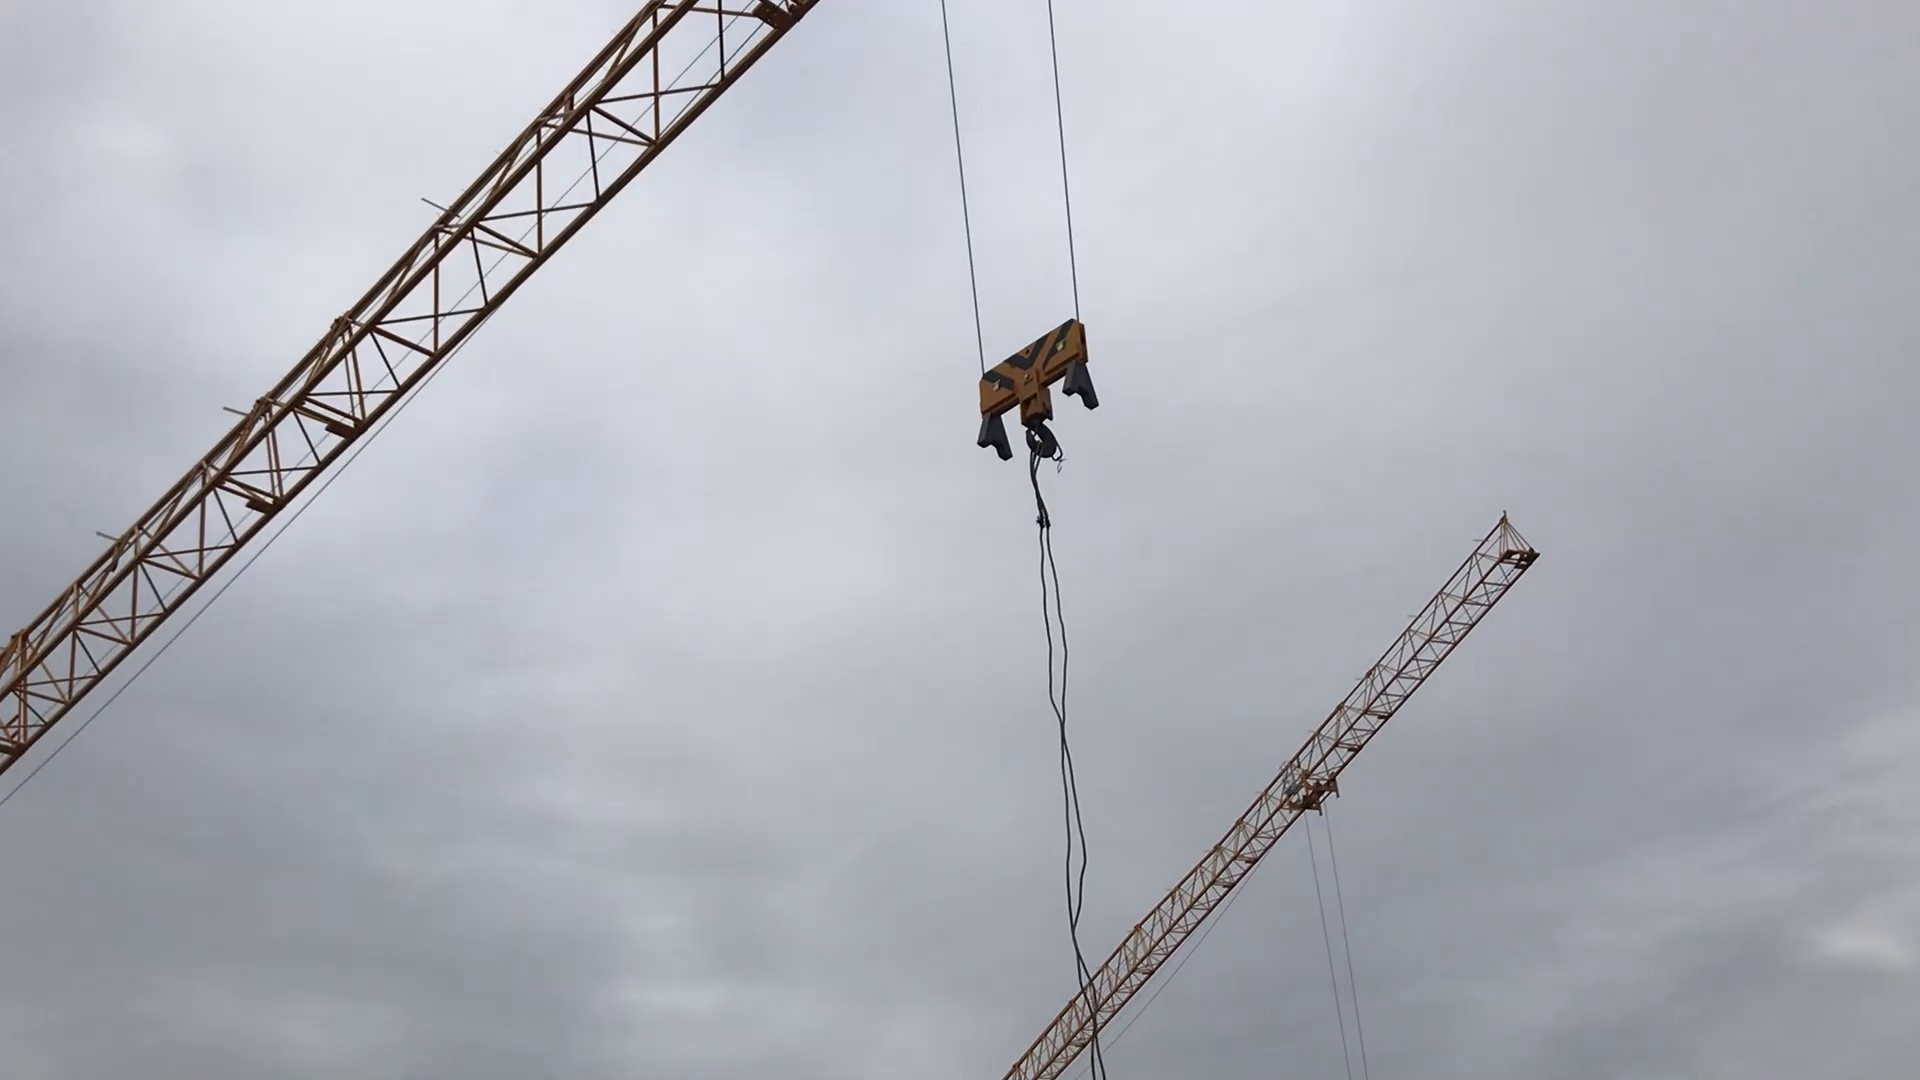hook: (967, 313, 1122, 495)
